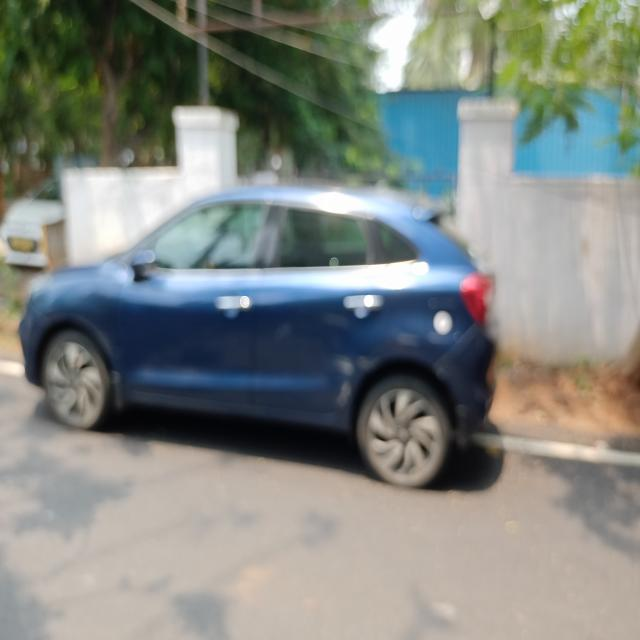car: (21, 187, 520, 488)
